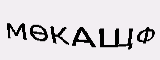Б: (39, 16, 52, 48)
Е: (51, 15, 70, 47)
М: (70, 12, 90, 43)
Т: (89, 10, 110, 39)
Ф: (109, 16, 126, 41)
